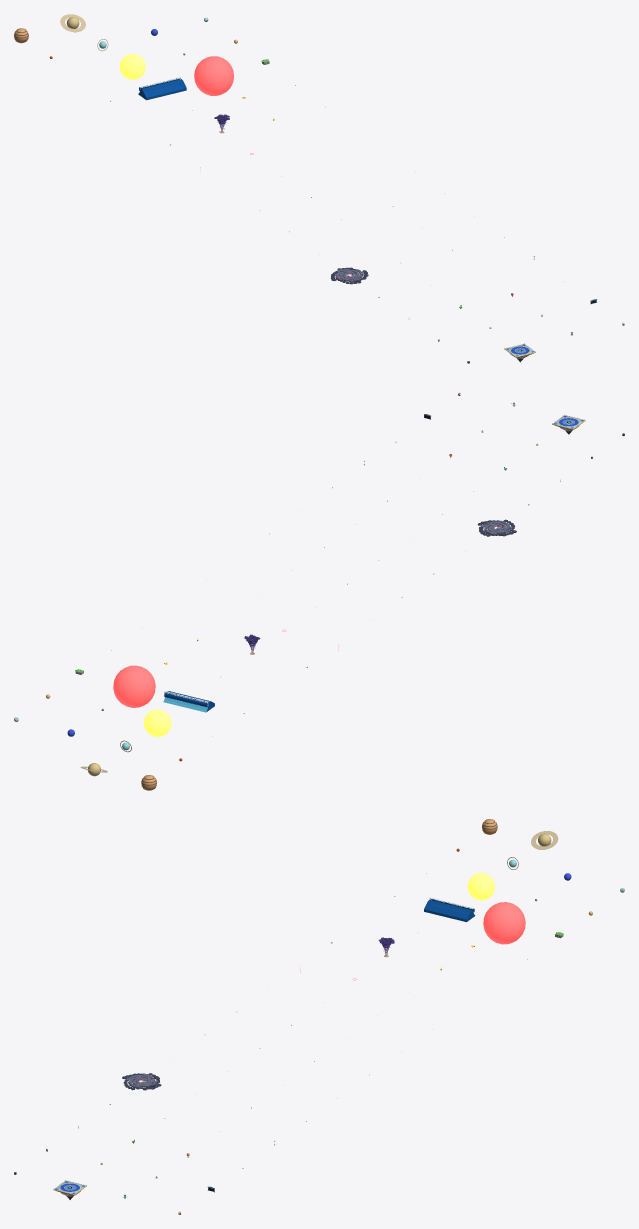
The model's file is LobbyKit.glb.
3 renders of one model, top to bottom at view 1: azimuth 30°, elevation 25°; view 2: azimuth 150°, elevation 25°; view 3: azimuth 330°, elevation 25°, orthographic. The views are drawn at different scales.
Visible parts, largest first — view 1: Moon__heat__tint, TsunamiCurl__body__waveDeep, Sun__corona__sunGlow__spin6; view 2: Moon__heat__tint, Sun__corona__sunGlow__spin6; view 3: Moon__heat__tint, TsunamiCurl__body__waveDeep, Sun__corona__sunGlow__spin6.
Part boxes in pixels (<box>): Moon__heat__tint: <box>194,56,233,95</box>; TsunamiCurl__body__waveDeep: <box>138,79,186,100</box>; Sun__corona__sunGlow__spin6: <box>119,54,145,79</box>; Moon__heat__tint: <box>113,665,155,707</box>; Sun__corona__sunGlow__spin6: <box>144,709,171,736</box>; Moon__heat__tint: <box>483,902,525,944</box>; TsunamiCurl__body__waveDeep: <box>424,899,474,922</box>; Sun__corona__sunGlow__spin6: <box>467,873,494,900</box>.
Size of the model in its own units: 1093 by 216 by 4928.
